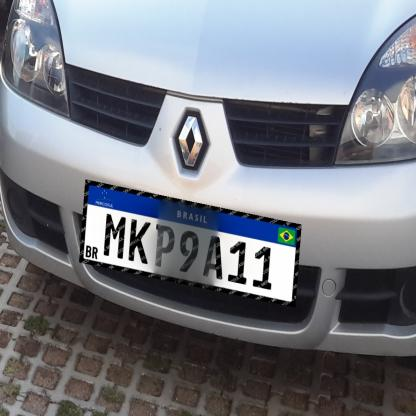PlacaM: (80, 180, 302, 307)
